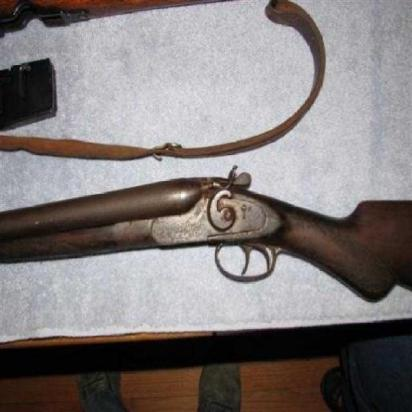Gun: (0, 130, 411, 312)
